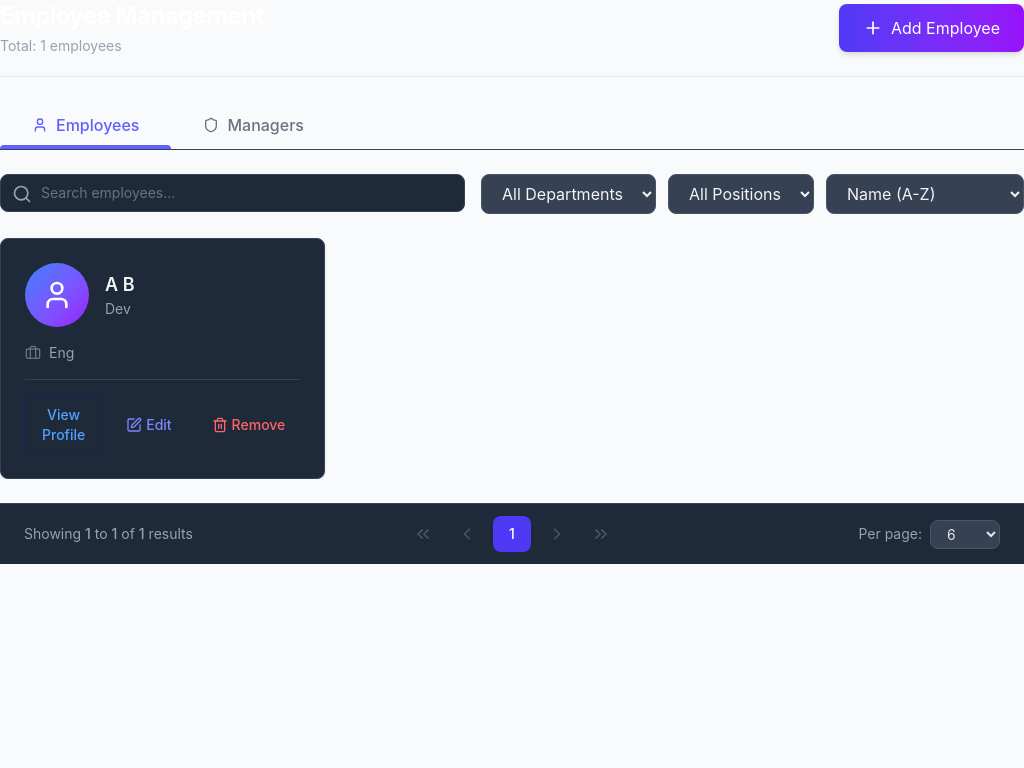
Test: EmployeesPage dedicated › disables create when no departments exist
Click the button "Add Employee".
click(931, 28)  # box 839,4 -> 1023,52
(page scrolled)
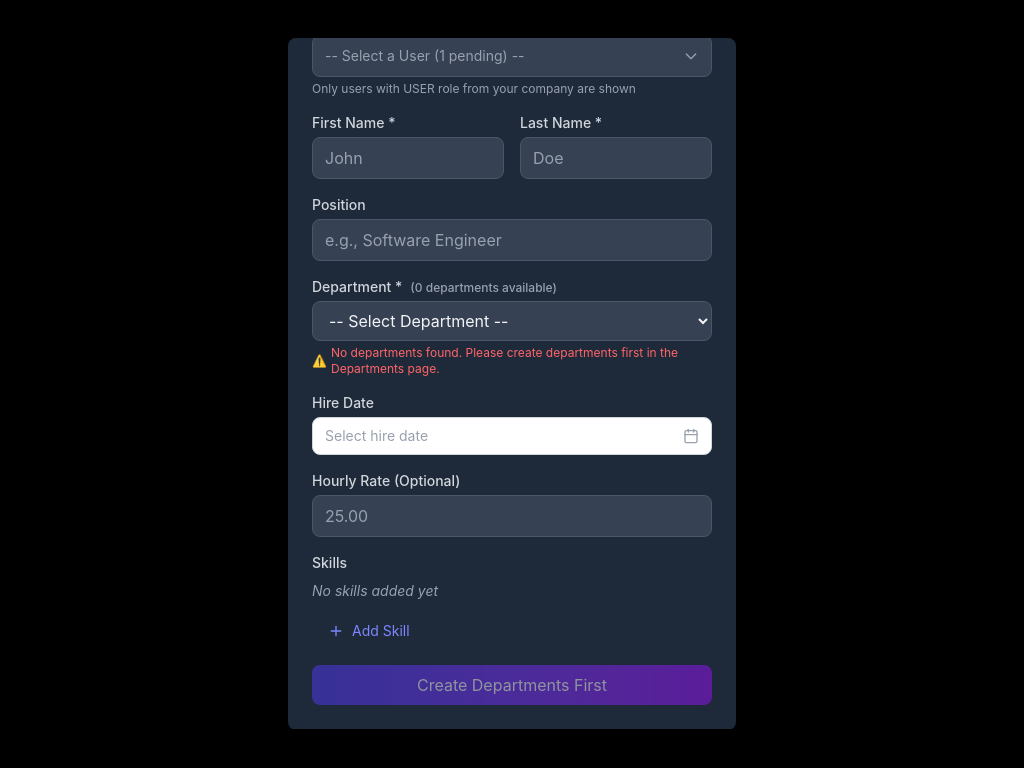
Expected: the text "No departments found" is shown, 331,345 -> 678,376
Expected: the button "Create Departments First" is disabled, 312,665 -> 712,705
